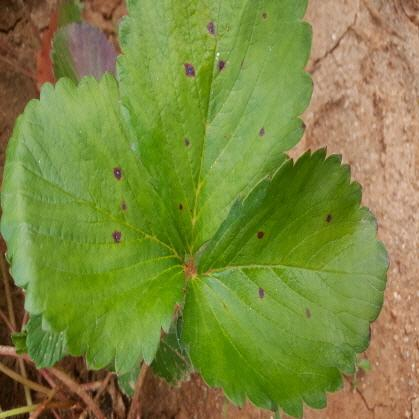Leaf Spot: (177, 145, 389, 418), (0, 71, 190, 375), (114, 0, 314, 262)
